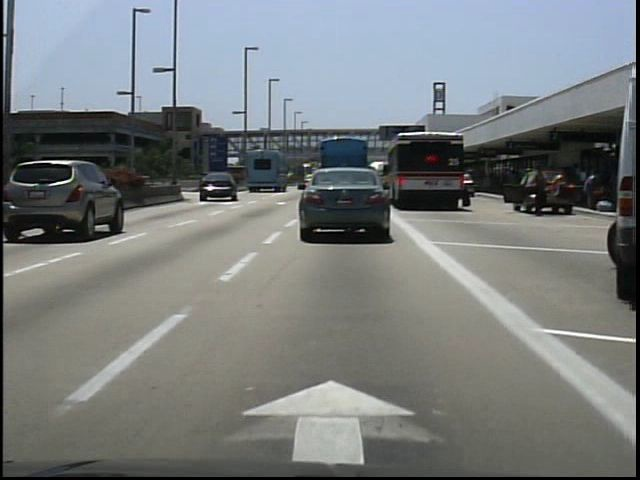person: (526, 162, 551, 218)
